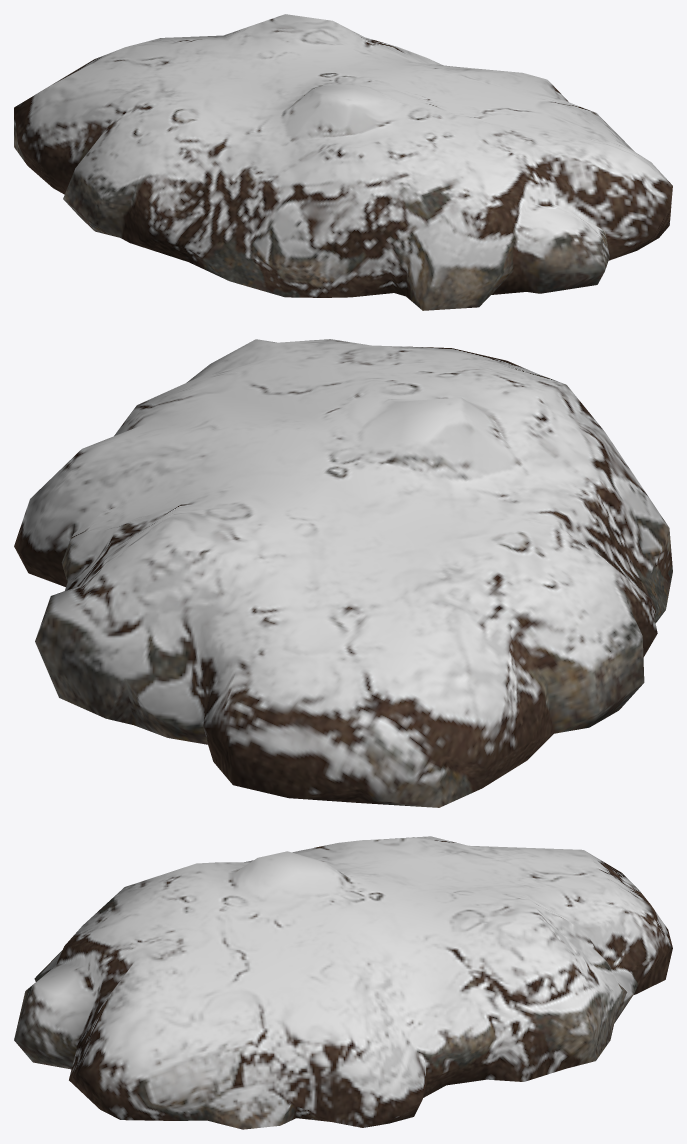
3 views of the same model, one above another, from view 1: azimuth 30°, elevation 25°; view 2: azimuth 150°, elevation 25°; view 3: azimuth 270°, elevation 25° (orthographic). The views are drawn at different scales.
Parts seen in each view (by area): view 1: 1_wj_01_02; view 2: 1_wj_01_02; view 3: 1_wj_01_02.
Part boxes in pixels (x1,y1,x2,y2): 1_wj_01_02: (14,14,672,310); 1_wj_01_02: (14,339,672,807); 1_wj_01_02: (14,836,672,1129).
Bounding box in the file's own units: 2.69 × 0.7366 × 3.2.
Materials: 1 (1 with a texture image).
